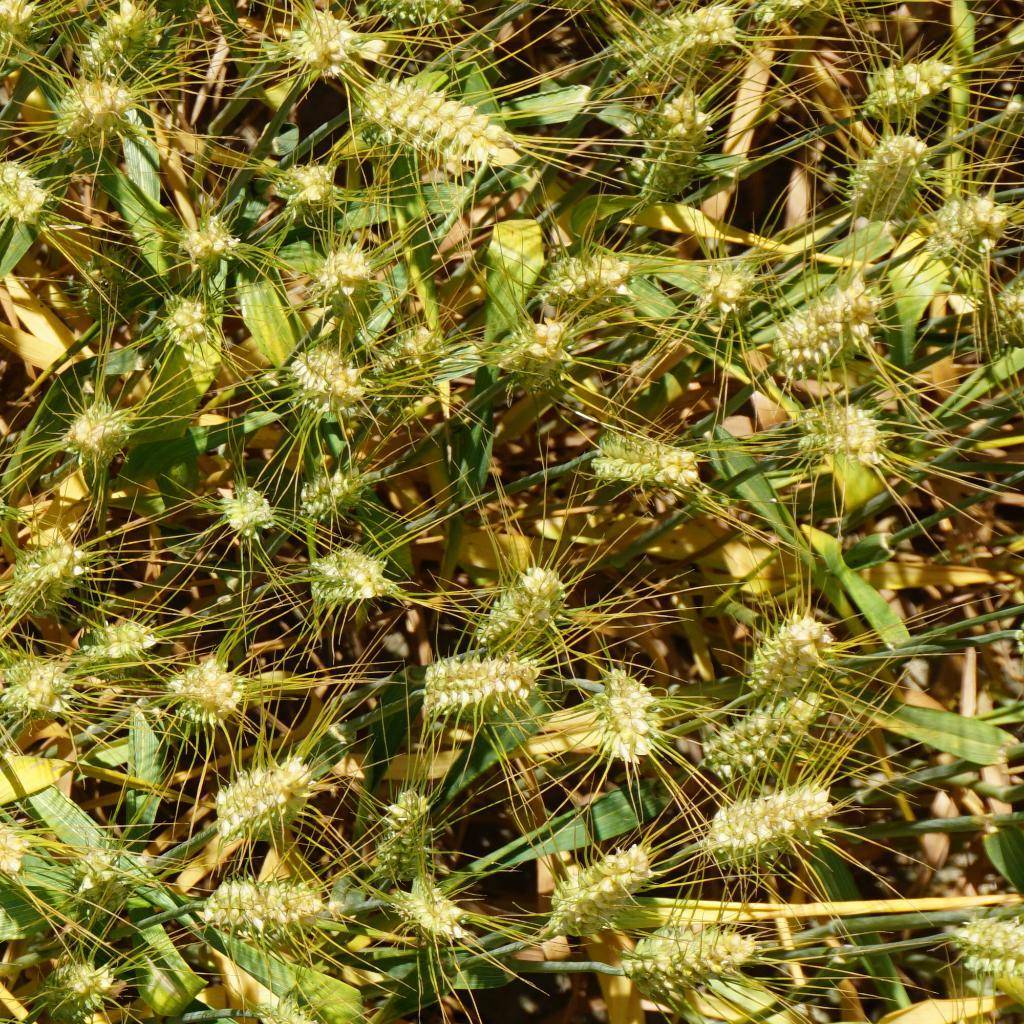0-0: (347, 75, 525, 174), (770, 271, 892, 387), (613, 87, 727, 202), (618, 914, 766, 999), (542, 845, 651, 940), (845, 126, 935, 233), (713, 715, 834, 786), (712, 787, 837, 854), (205, 759, 306, 836), (586, 425, 707, 489), (468, 567, 570, 642), (628, 3, 751, 65), (202, 866, 329, 925), (421, 652, 545, 711), (51, 75, 138, 157), (0, 536, 99, 608), (861, 55, 955, 125), (794, 400, 891, 467), (541, 243, 638, 310), (369, 791, 439, 882), (33, 956, 126, 1023), (80, 605, 166, 676), (286, 0, 369, 73), (594, 667, 660, 758), (750, 610, 831, 683), (929, 186, 1001, 267), (489, 323, 581, 386), (88, 3, 161, 77), (168, 660, 252, 724), (388, 882, 476, 940), (300, 547, 376, 614), (382, 320, 444, 401), (67, 396, 133, 472), (292, 343, 361, 414), (950, 913, 1024, 979), (0, 153, 61, 226), (0, 653, 66, 717), (150, 280, 212, 348), (73, 250, 130, 317), (279, 158, 338, 220), (696, 253, 753, 313), (187, 206, 243, 265), (315, 241, 375, 296), (73, 849, 124, 912), (228, 482, 283, 539), (387, 0, 459, 41), (301, 468, 358, 515), (0, 814, 38, 883), (0, 0, 40, 56), (267, 997, 323, 1024), (997, 286, 1024, 331), (0, 483, 12, 536)
